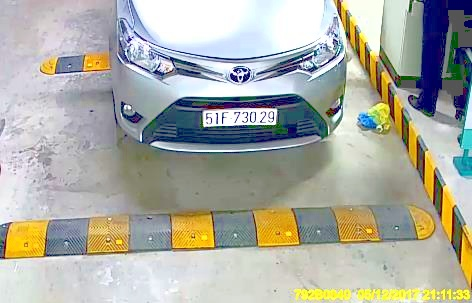plate: (202, 105, 278, 129)
